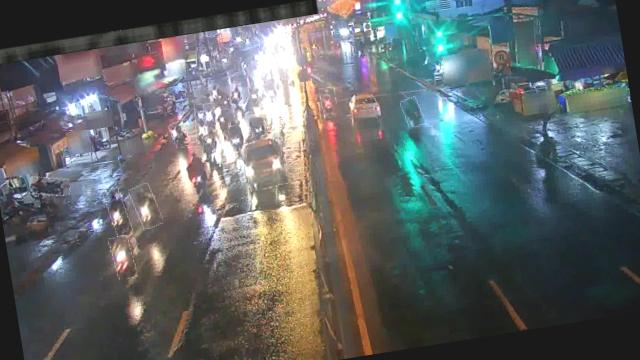Bike: (130, 181, 162, 230), (104, 186, 132, 238), (182, 148, 209, 198), (110, 234, 138, 281), (29, 172, 72, 198), (198, 123, 220, 163), (401, 96, 424, 128), (320, 86, 340, 118), (169, 121, 191, 148), (248, 112, 269, 138), (227, 124, 246, 150), (215, 109, 230, 134), (264, 77, 278, 102), (228, 83, 243, 105), (232, 103, 246, 125), (203, 103, 216, 126), (195, 120, 208, 142), (248, 81, 261, 103), (193, 103, 205, 123), (210, 82, 220, 101)
Car: (240, 132, 289, 192)
